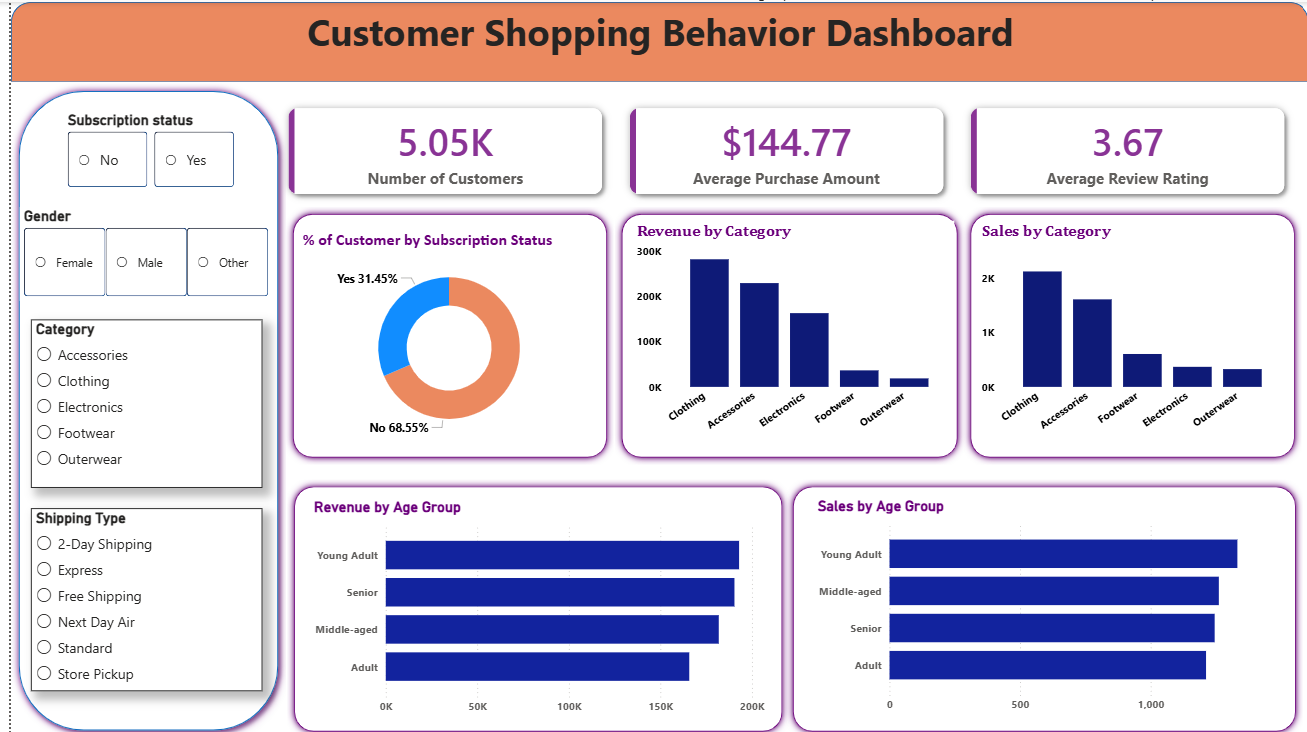

This screenshot's page, from the dashboard's own definition file:
{"tool":"powerbi","page":{"name":"Page 1","canvas":[1500,850],"ordinal":0},"visuals":[{"type":"cardVisual","fields":{"Data":["customer.Number of Customers","customer.Average Purchase Amount","customer.Average Review Rating"]},"box":[291.6,93.8,1208.3,157.4],"z":0},{"type":"shape","box":[0,0,1499.9,92.4],"z":1000},{"type":"textbox","box":[0,0,1499.9,92.4],"z":2000},{"type":"shape","box":[317.9,236.7,378.7,297.6],"z":3000},{"type":"donutChart","title":"% of Customer by Subscription Status","fields":{"Category":["customer.subscription_status"],"Y":["CountNonNull(customer.customer_id)"]},"box":[331.4,262.1,348.3,251.9],"z":4000},{"type":"shape","box":[696.6,236.7,404.1,297.6],"z":5000},{"type":"shape","box":[1100.7,236.7,390.6,297.6],"z":6000},{"type":"clusteredColumnChart","title":"Revenue by Category","fields":{"Y":["Sum(customer.purchase_amount)"],"Category":["customer.category"]},"box":[716.9,251.9,372,262.1],"z":7000},{"type":"clusteredColumnChart","title":"Sales by Category","fields":{"Category":["customer.category"],"Y":["CountNonNull(customer.customer_id)"]},"box":[1115.9,251.9,358.4,262.1],"z":8000},{"type":"shape","box":[0,93.8,317.6,756.5],"z":9000},{"type":"advancedSlicerVisual","title":"Subscription status","fields":{"Values":["customer.subscription_status"]},"box":[60.6,125.6,202.1,93.8],"z":10000},{"type":"advancedSlicerVisual","title":"Gender","fields":{"Values":["customer.gender"]},"box":[10.1,236.7,292.5,108.2],"z":11000},{"type":"listSlicer","title":"Category","fields":{"Values":["customer.category"]},"box":[23.7,366.9,267.1,194.4],"z":12000},{"type":"listSlicer","title":"Shipping Type","fields":{"Values":["customer.shipping_type"]},"box":[23.7,585,267.1,211.3],"z":13000},{"type":"shape","box":[319.5,551.2,579.9,299.3],"z":14000},{"type":"shape","box":[894.4,551.2,596.8,299.3],"z":15000},{"type":"clusteredBarChart","title":"Revenue by Age Group","fields":{"Category":["customer.age_group"],"Y":["Sum(customer.purchase_amount)"]},"box":[344.9,573.2,530.9,258.7],"z":16000},{"type":"clusteredBarChart","title":"Sales by Age Group","fields":{"Category":["customer.age_group"],"Y":["CountNonNull(customer.customer_id)"]},"box":[926.8,571.7,531.3,258.4],"z":16001}]}

Visuals, with their boxes in screenshot pixels (x1, y1, x2, y2), scaled from the page's 1500x850 canvas onto the 1307x732 screenshot:
cardVisual - customer.Number of Customers x customer.Average Purchase Amount: [left=254, top=81, right=1306, bottom=216]
shape: [left=0, top=0, right=1306, bottom=80]
textbox: [left=0, top=0, right=1306, bottom=80]
shape: [left=277, top=204, right=607, bottom=460]
"% of Customer by Subscription Status" donutChart: [left=289, top=226, right=592, bottom=443]
shape: [left=607, top=204, right=959, bottom=460]
shape: [left=959, top=204, right=1299, bottom=460]
"Revenue by Category" clusteredColumnChart: [left=625, top=217, right=949, bottom=443]
"Sales by Category" clusteredColumnChart: [left=972, top=217, right=1285, bottom=443]
shape: [left=0, top=81, right=277, bottom=731]
"Subscription status" advancedSlicerVisual: [left=53, top=108, right=229, bottom=189]
"Gender" advancedSlicerVisual: [left=9, top=204, right=264, bottom=297]
"Category" listSlicer: [left=21, top=316, right=253, bottom=483]
"Shipping Type" listSlicer: [left=21, top=504, right=253, bottom=686]
shape: [left=278, top=475, right=784, bottom=731]
shape: [left=779, top=475, right=1299, bottom=731]
"Revenue by Age Group" clusteredBarChart: [left=301, top=494, right=763, bottom=716]
"Sales by Age Group" clusteredBarChart: [left=808, top=492, right=1270, bottom=715]
